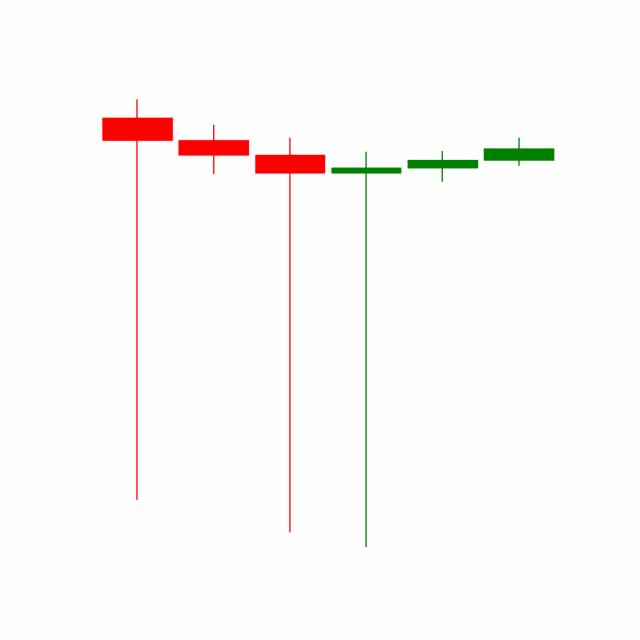Spinning Top: (403, 150, 481, 182)
